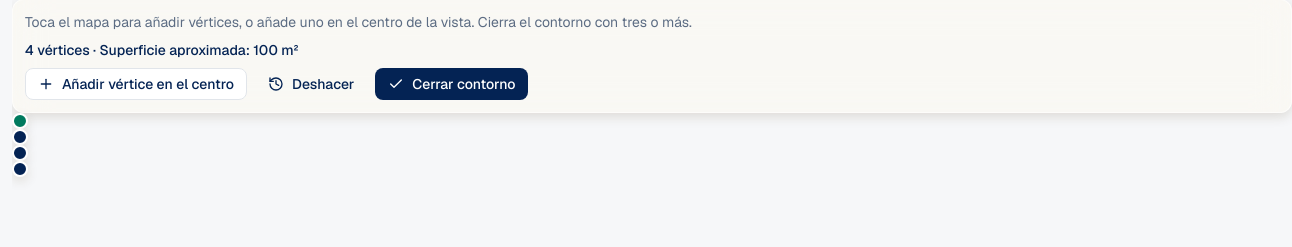
Scenario: HerramientaContorno (AV-428) › rechaza mover un vértice si el contorno se cruza
Press the mouse on the button named "Vértice 4 de 4" at (20, 169), box [12,161,28,177]
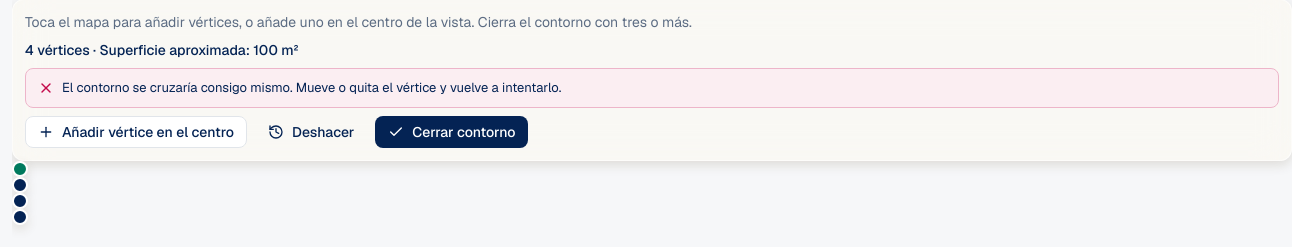
Expected: the text "se cruzaría consigo mismo" is shown, [62,79,561,96]
